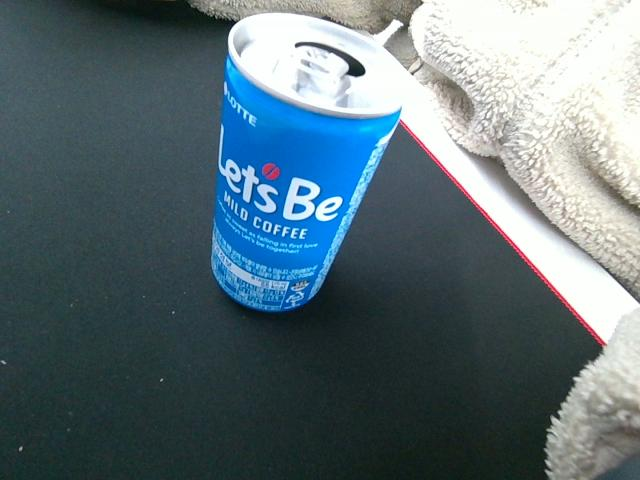letsbe: (209, 11, 406, 312)
